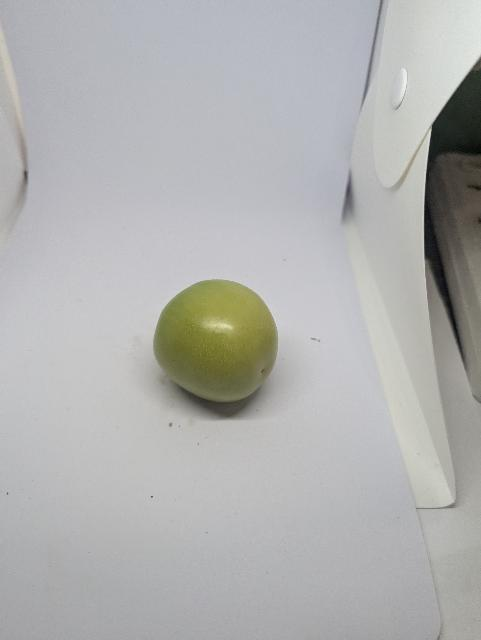green: (150, 277, 282, 406)
